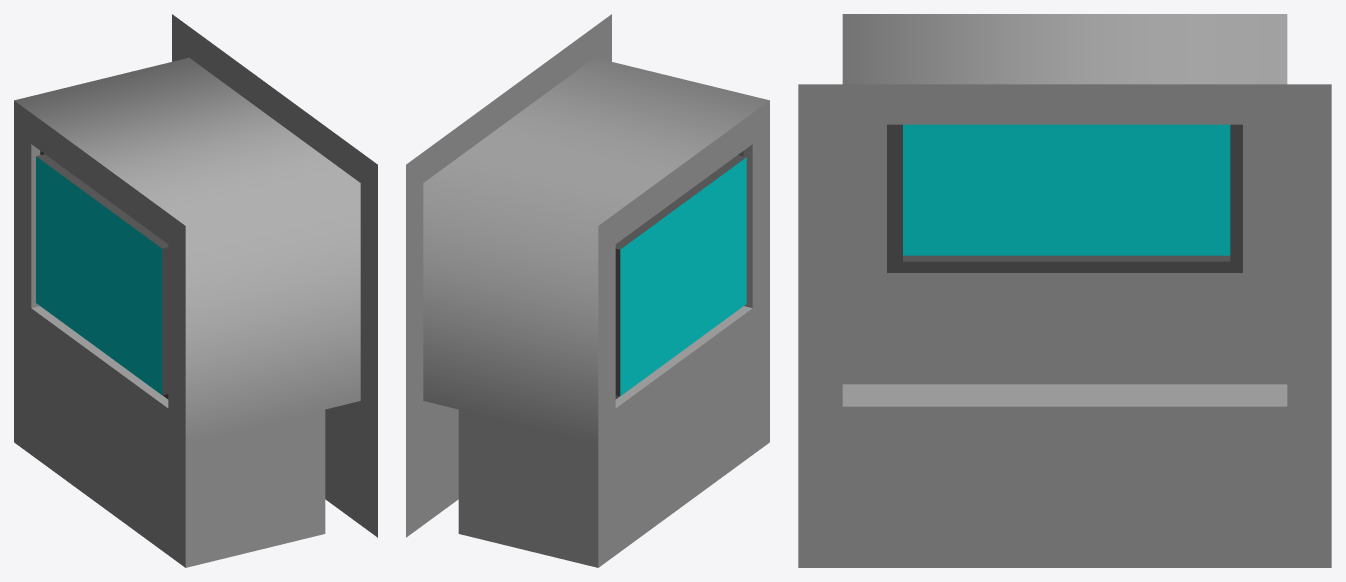
The model's file is kitsch_wall_wall_02_LOD0.fbx.
3 renders of one model, left to right at view 1: azimuth 30°, elevation 25°; view 2: azimuth 150°, elevation 25°; view 3: azimuth 270°, elevation 25°, orthographic. The views are drawn at different scales.
Parts seen in each view (by area): view 1: kitsch_wall_wall_02_LOD0; view 2: kitsch_wall_wall_02_LOD0; view 3: kitsch_wall_wall_02_LOD0.
Part boxes in pixels (x1=…): kitsch_wall_wall_02_LOD0: x1=14, y1=14, x2=377, y2=567; kitsch_wall_wall_02_LOD0: x1=406, y1=14, x2=769, y2=567; kitsch_wall_wall_02_LOD0: x1=798, y1=14, x2=1331, y2=567.
Bounding box in the file's own units: 1.47 × 3 × 3.
